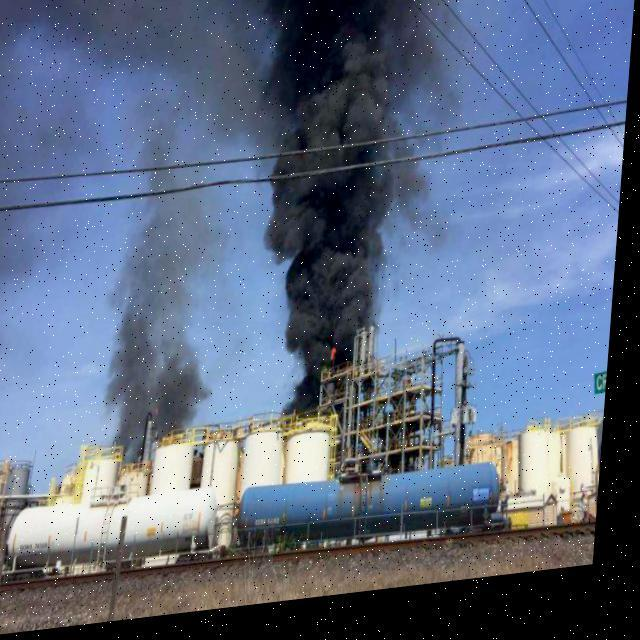Fire: (333, 348, 346, 373)
